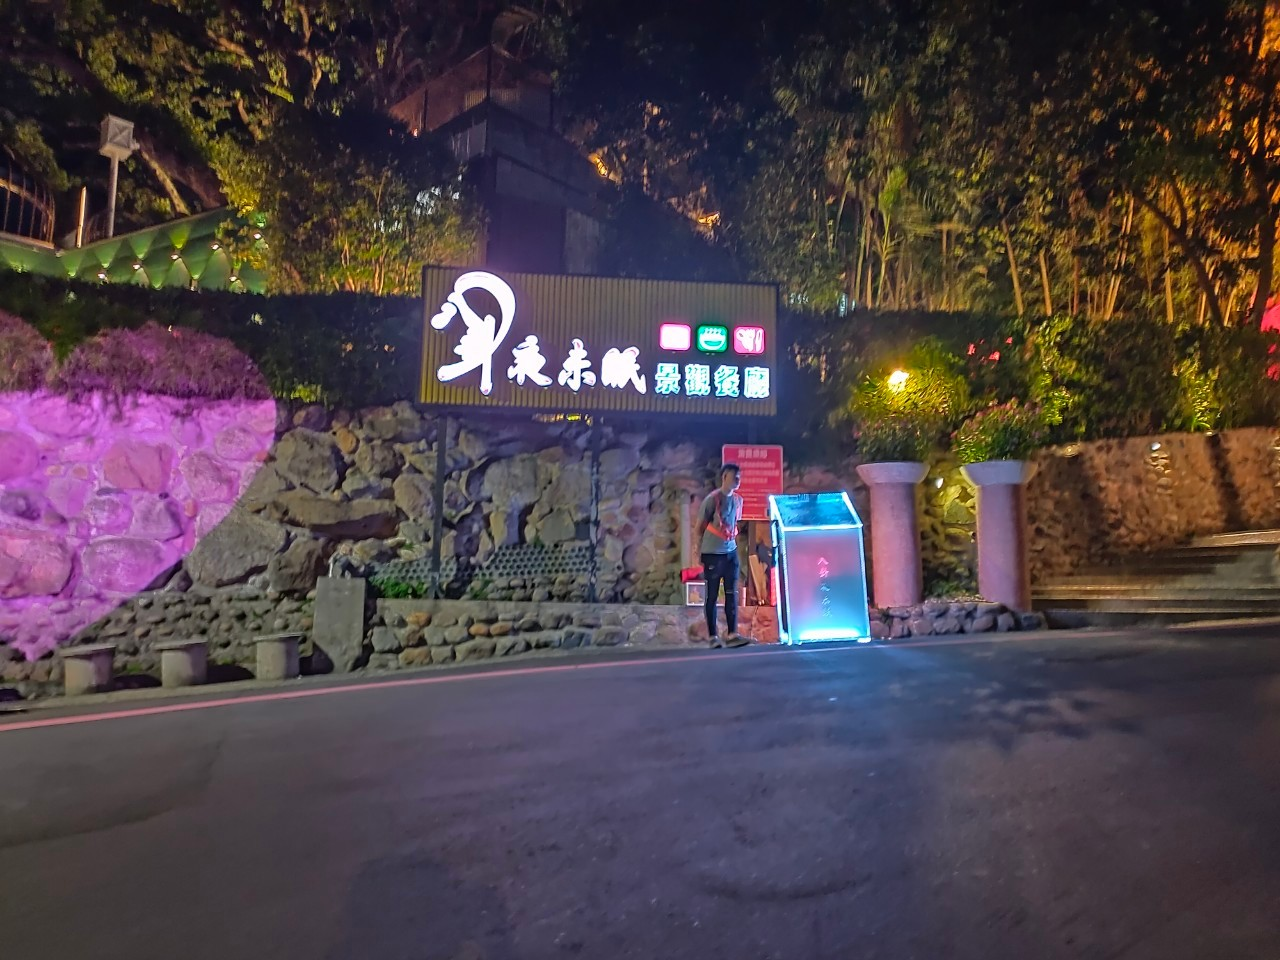people: (684, 464, 762, 666)
